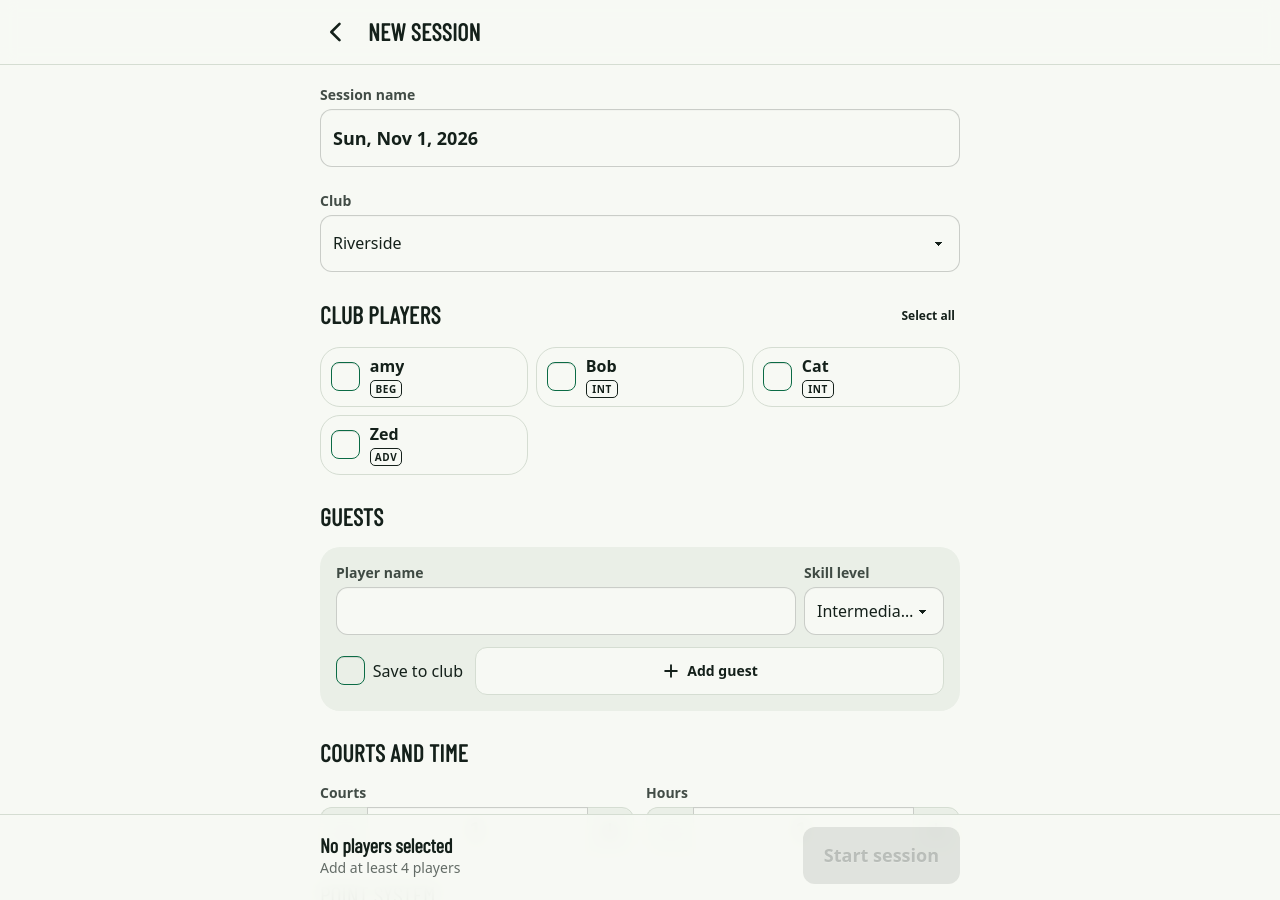
Test case: NewSessionScreen › selects all / none and shows the count
This screenshot has width=1280, height=900.
Click the checkbox labelled "Bob".
click(561, 377)  # box [547,362,576,391]
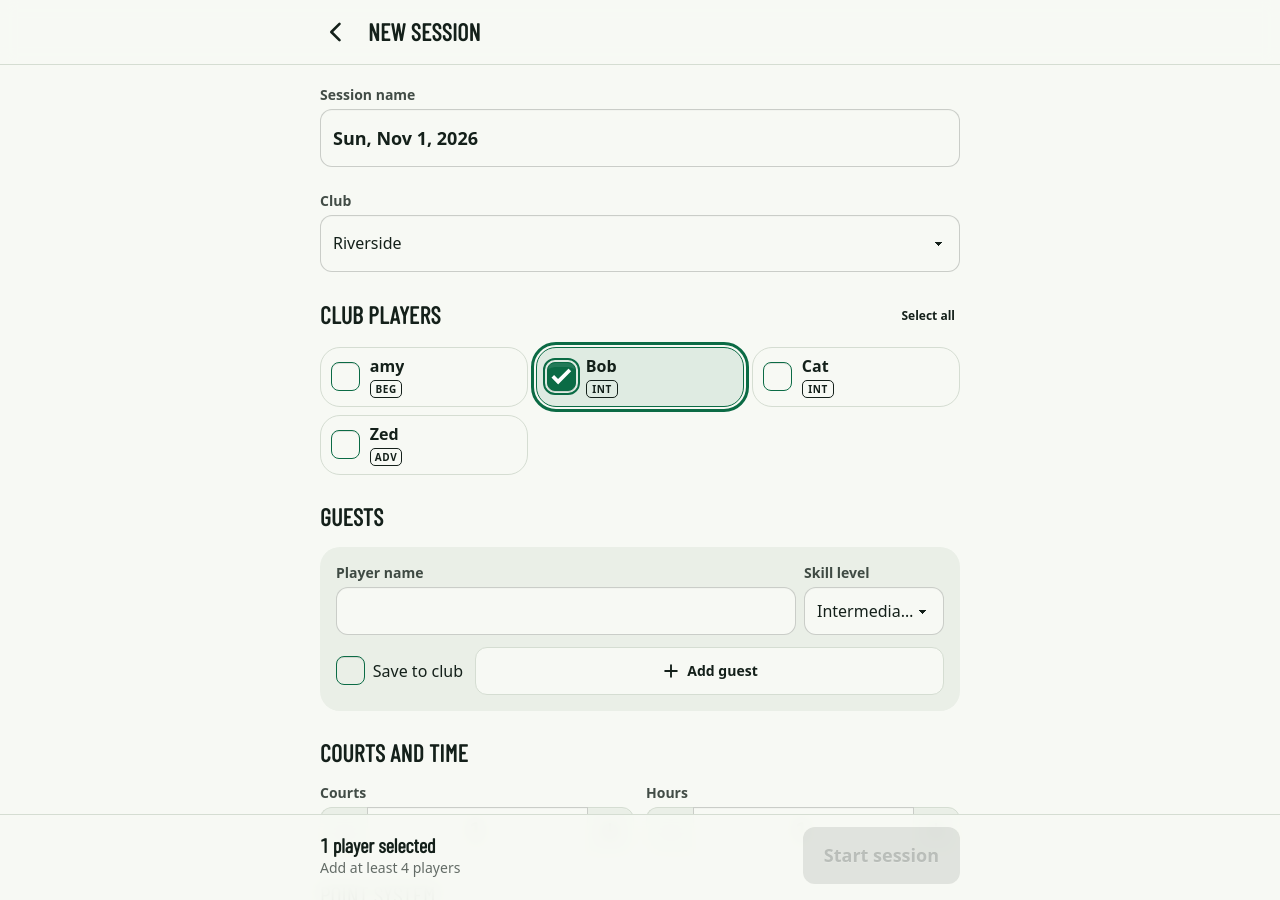
Expected: the text "1 player selected" is shown, [320,833,436,857]
Click the button "Select all".
click(928, 315)  # box [888,296,968,335]
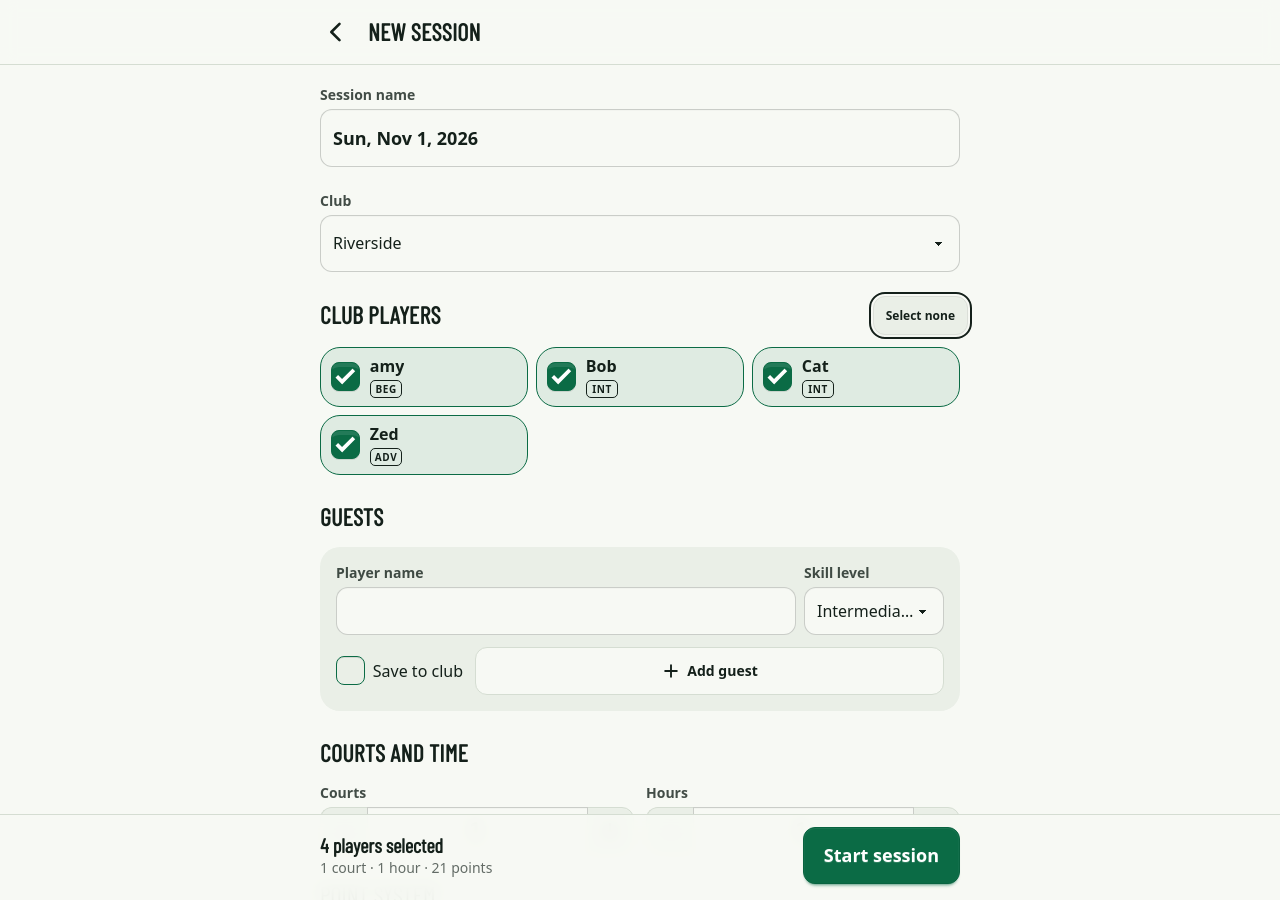
Expected: the text "4 players selected" is shown, [320,833,443,857]
Click the button "Select none".
click(920, 315)  # box [873,296,968,335]
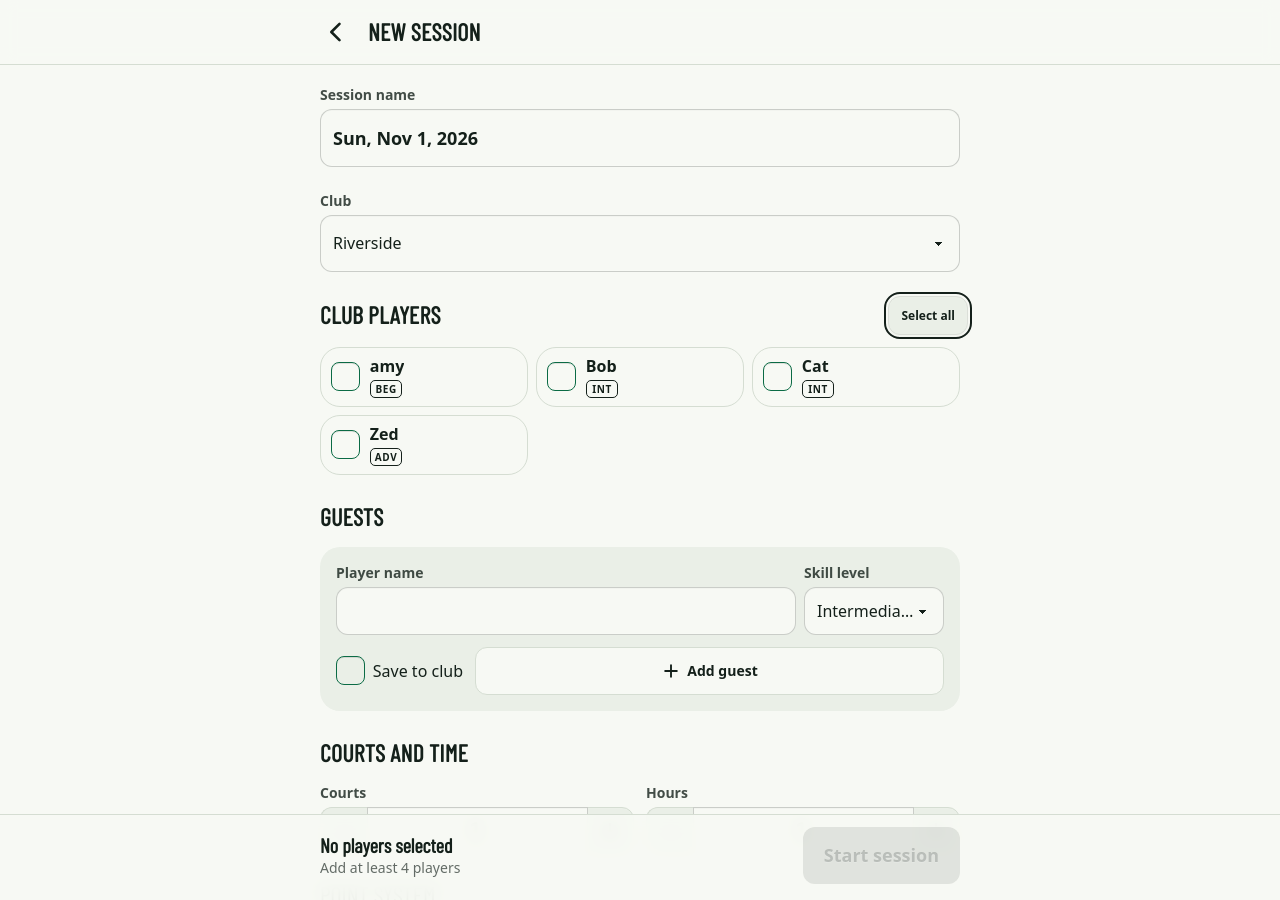
Expected: the text "No players selected" is shown, [320,833,452,857]
